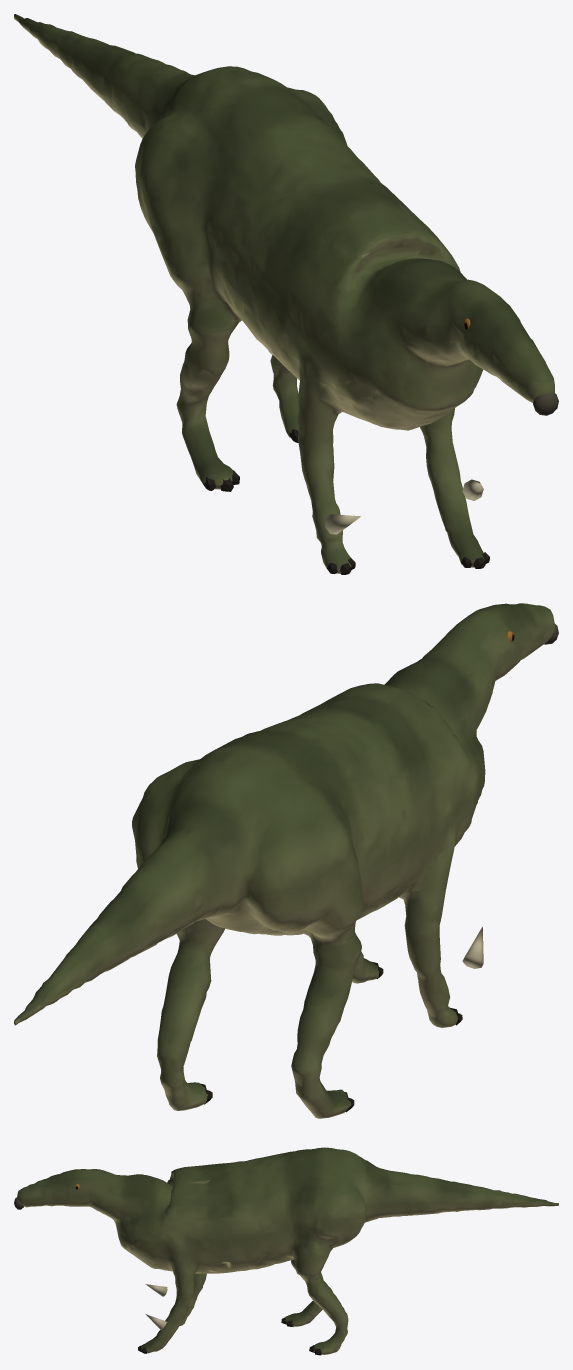
File: Iguanodon.fbx
3 views of the same model, one above another, from view 1: azimuth 30°, elevation 25°; view 2: azimuth 150°, elevation 25°; view 3: azimuth 270°, elevation 25° (orthographic). The views are drawn at different scales.
Visible parts, largest first — view 1: Iguanodon; view 2: Iguanodon; view 3: Iguanodon.
Boxes of the visible parts, box(x1,y1,x2,y2) form: Iguanodon: box(14, 14, 558, 574); Iguanodon: box(14, 603, 558, 1118); Iguanodon: box(14, 1147, 558, 1355).
Bounding box in the file's own units: 0.4169 × 0.7472 × 1.95.
